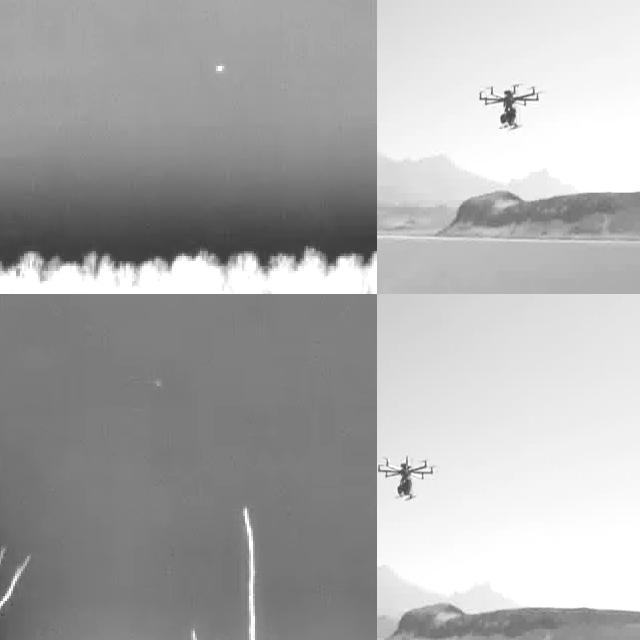0: (151, 373, 171, 401)
1: (209, 56, 239, 86)
drone: (479, 79, 545, 135), (377, 451, 438, 504)
